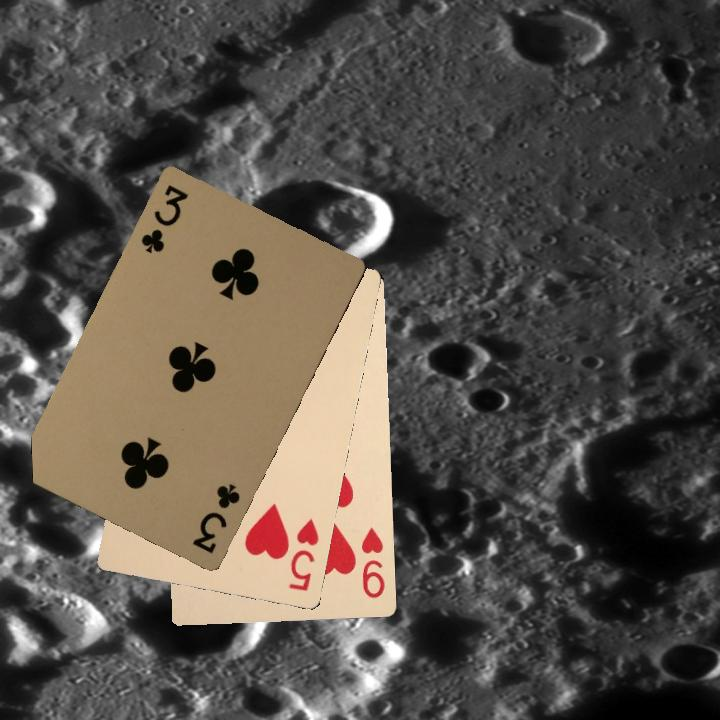3c: (188, 479, 243, 556), (137, 181, 191, 256)
5h: (285, 514, 321, 594)
9h: (357, 524, 387, 601)
